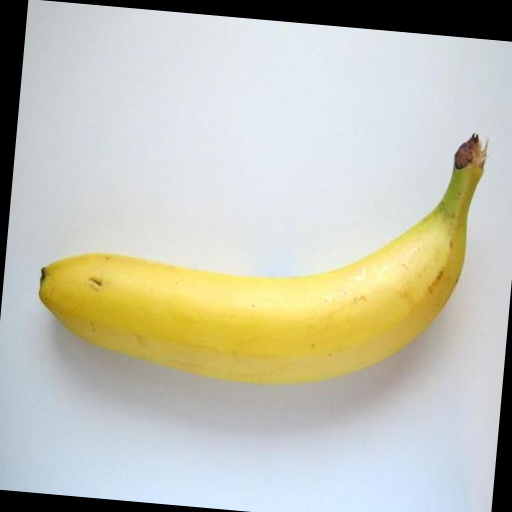fruit: (39, 135, 485, 383)
